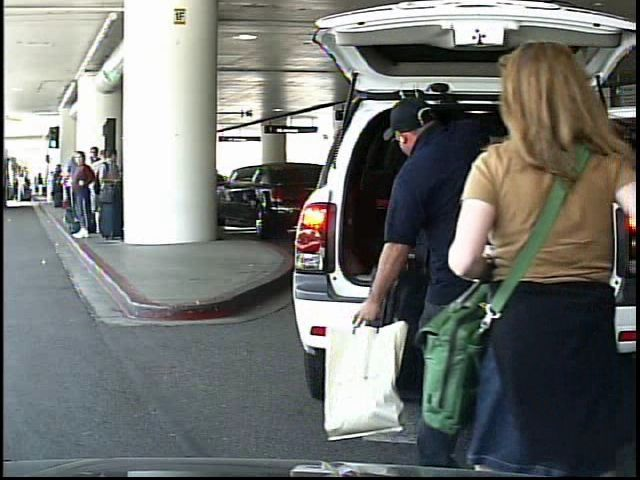person: (356, 96, 551, 463), (17, 174, 28, 205), (35, 172, 46, 199)
